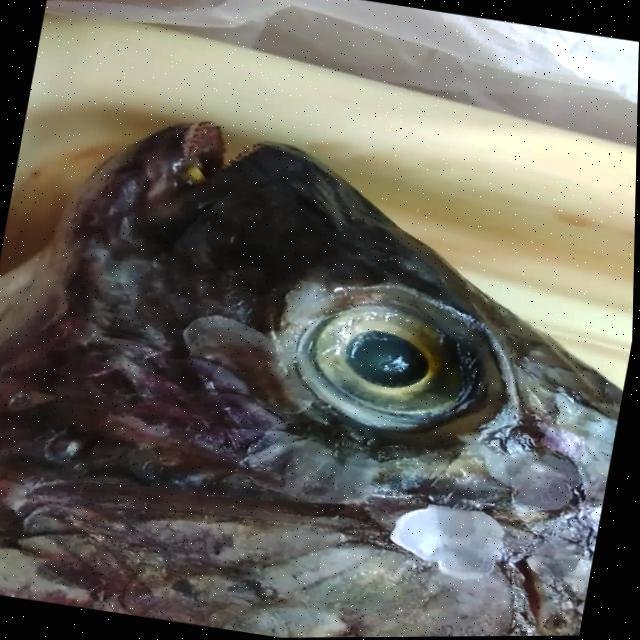Non-Fresh: (0, 110, 631, 640), (263, 254, 524, 492)
